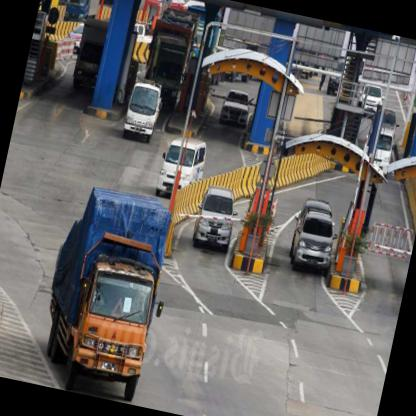truck: (59, 252, 164, 405)
